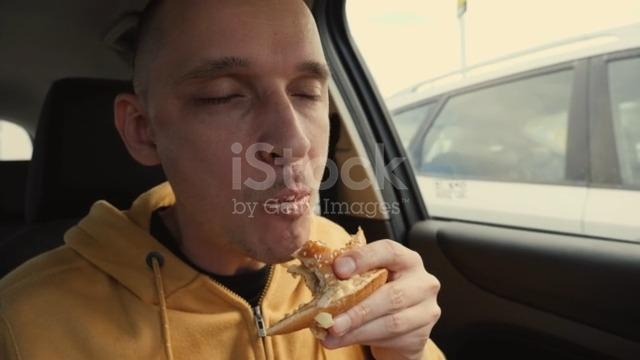Eating: (116, 5, 454, 356)
